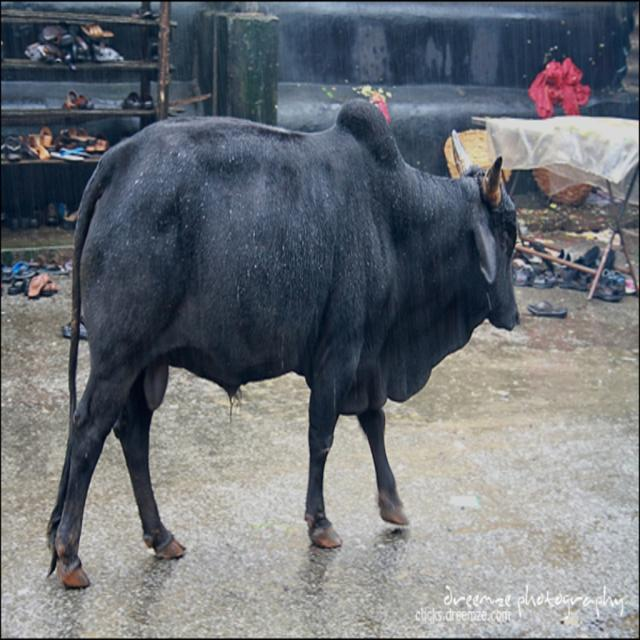Deer: (42, 90, 522, 592)
